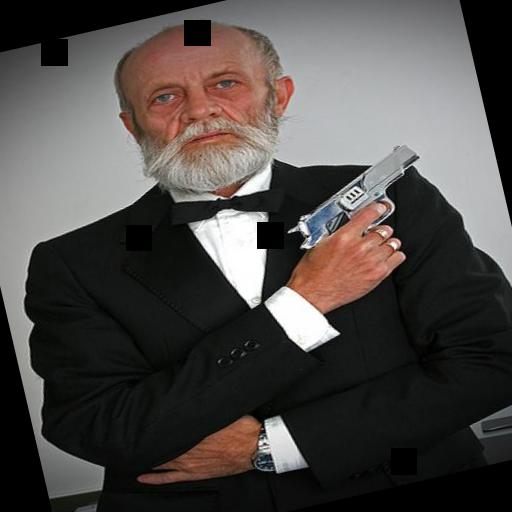Handgun: (270, 138, 436, 256)
